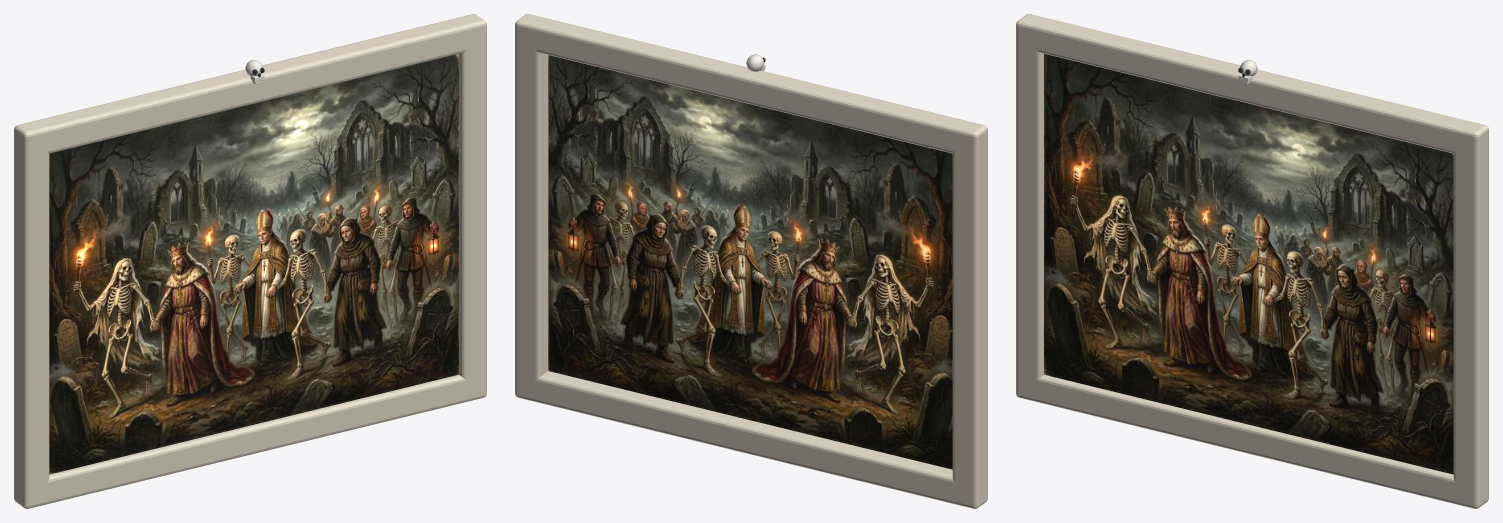
The model's file is art_danse_macabre.glb.
3 renders of one model, left to right at view 1: azimuth 30°, elevation 25°; view 2: azimuth 150°, elevation 25°; view 3: azimuth 330°, elevation 25°, orthographic.
Parts seen in each view (by area): view 1: GD_art_danse_macabre__m0, GD_art_danse_macabre__m1; view 2: GD_art_danse_macabre__m0, GD_art_danse_macabre__m1; view 3: GD_art_danse_macabre__m0, GD_art_danse_macabre__m1.
Part boxes in pixels (x1,y1,x2,y2): GD_art_danse_macabre__m0: [49, 53, 458, 474]; GD_art_danse_macabre__m1: [14, 14, 486, 508]; GD_art_danse_macabre__m0: [548, 55, 952, 469]; GD_art_danse_macabre__m1: [515, 14, 987, 508]; GD_art_danse_macabre__m0: [1044, 53, 1453, 474]; GD_art_danse_macabre__m1: [1016, 14, 1488, 508].
Bounding box in the file's own units: 1.26 × 1.02 × 0.0744.
Materials: 4 (1 with a texture image).
